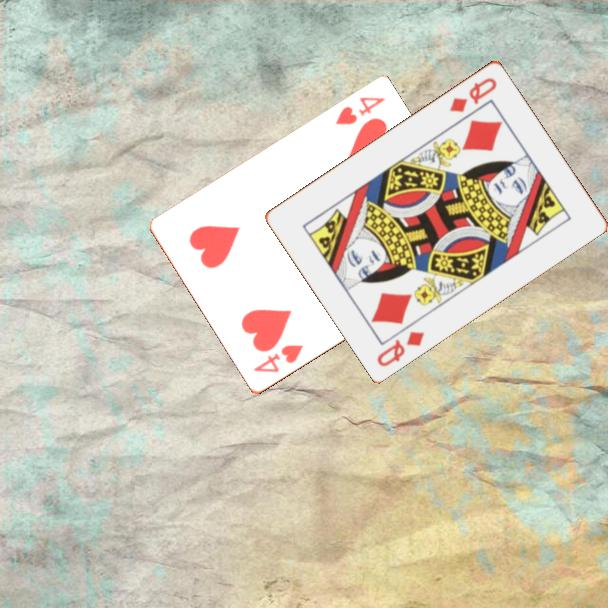d12: (373, 327, 428, 369), (446, 74, 500, 115)
h04: (250, 341, 306, 376), (332, 94, 388, 128)
